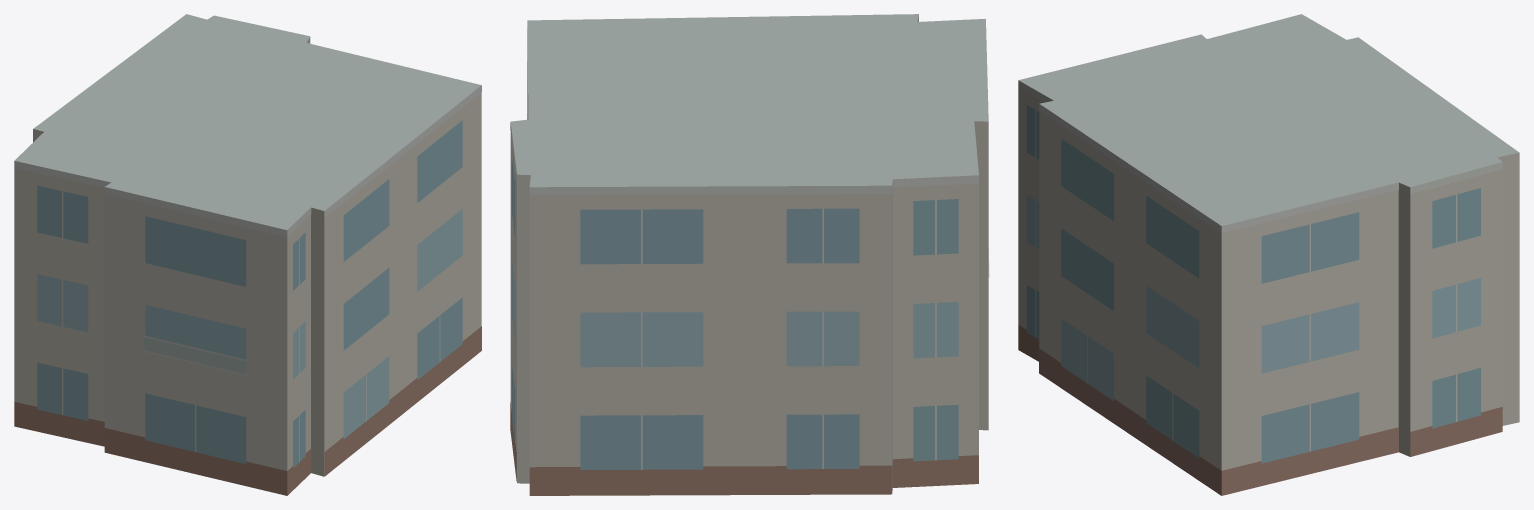
The model's file is survey-upis-32480120.glb.
3 views of the same model, side by side, from view 1: azimuth 30°, elevation 25°; view 2: azimuth 150°, elevation 25°; view 3: azimuth 270°, elevation 25° (orthographic). The views are drawn at different scales.
Parts seen in each view (by area): view 1: survey-upis-32480120.tmp; view 2: survey-upis-32480120.tmp; view 3: survey-upis-32480120.tmp.
Part boxes in pixels (x1,y1,x2,y2): survey-upis-32480120.tmp: (14,14,481,495); survey-upis-32480120.tmp: (510,14,989,495); survey-upis-32480120.tmp: (1018,14,1519,495).
Bounding box in the file's own units: 15.44 × 9.15 × 15.42.
